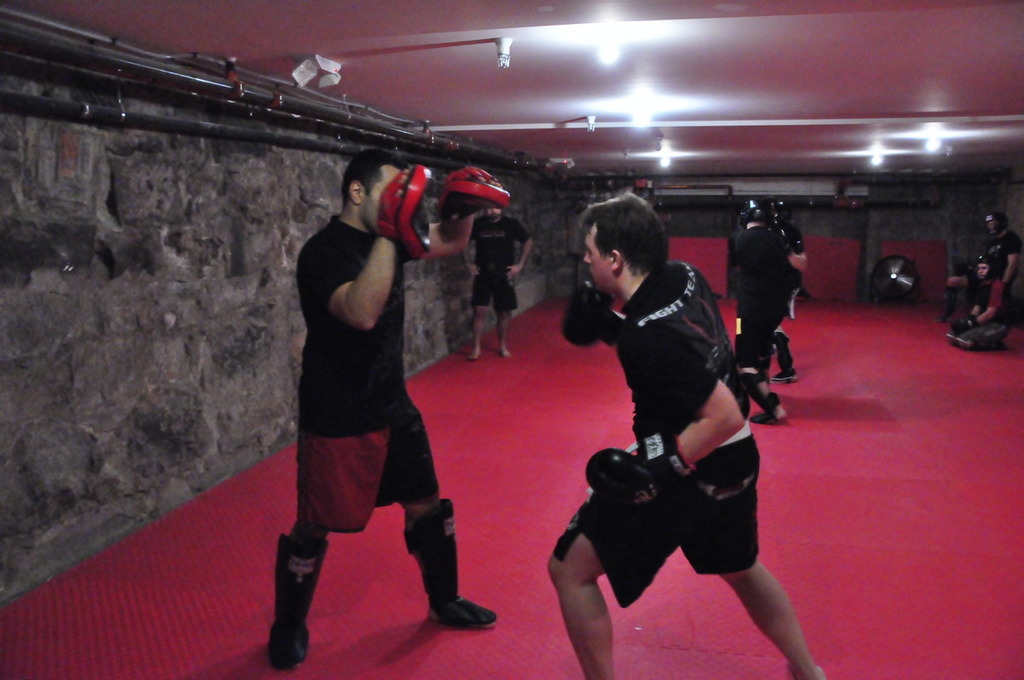Person: (537, 190, 830, 680), (274, 150, 510, 669), (727, 199, 804, 424), (456, 193, 530, 357), (739, 203, 800, 378), (938, 209, 1022, 322), (952, 255, 1015, 356)
